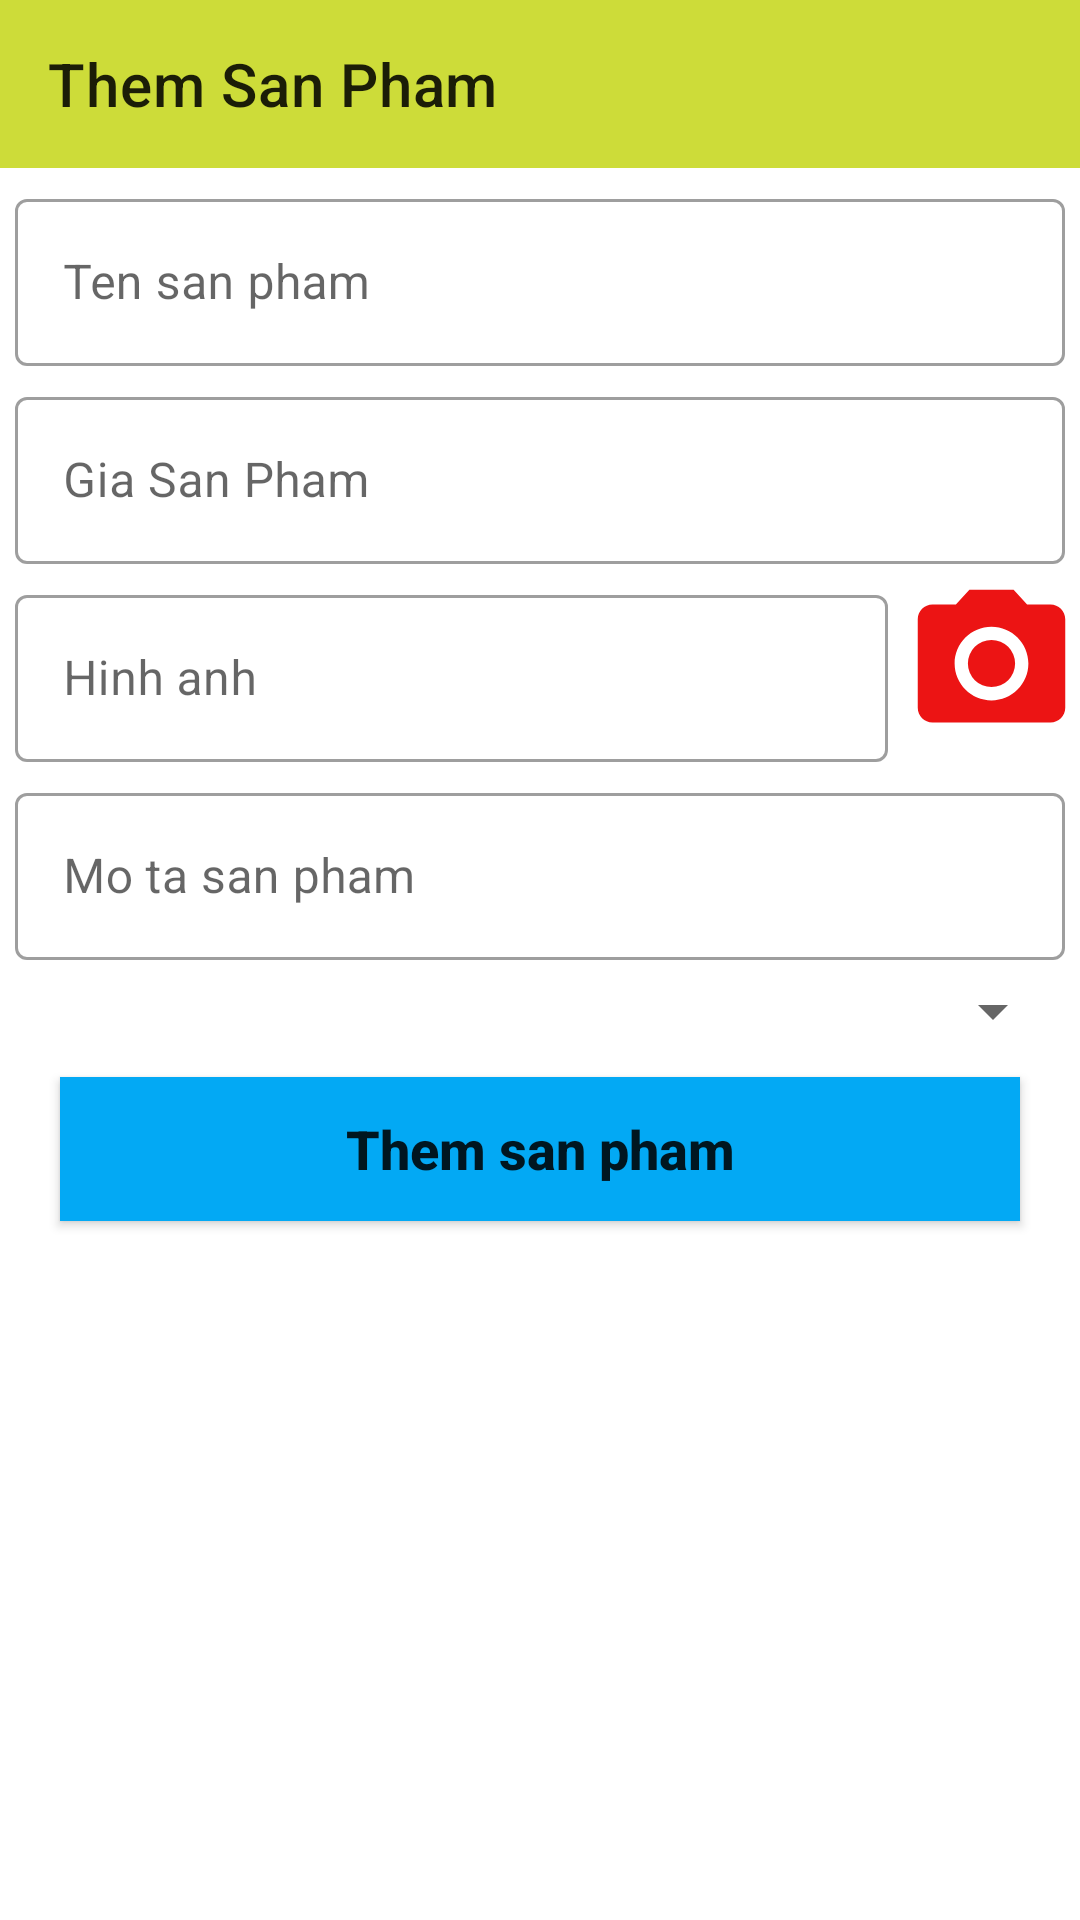

Icon click points for this 1080×1920 phone screenshot, format (x=x, y=y):
camera: (x=991, y=656)
